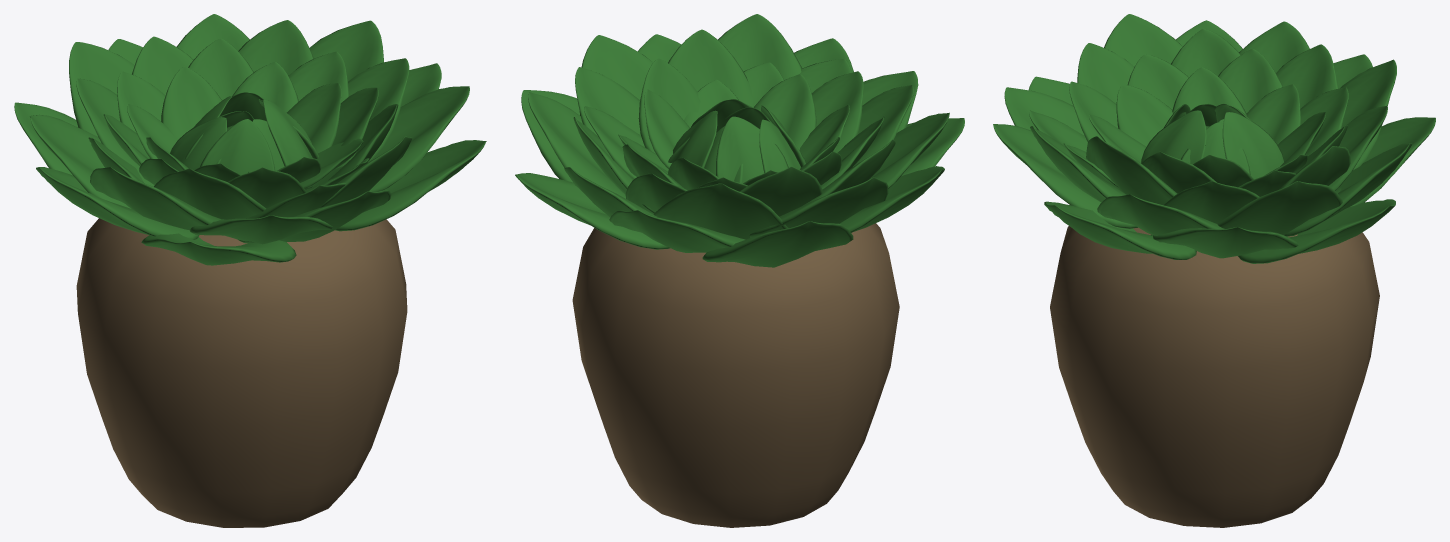
File: small_plant 1.fbx
3 renders of one model, left to right at view 1: azimuth 30°, elevation 25°; view 2: azimuth 150°, elevation 25°; view 3: azimuth 270°, elevation 25°, orthographic. The views are drawn at different scales.
Visible parts, largest first — view 1: sketchfab_render:polySurface233; view 2: sketchfab_render:polySurface233; view 3: sketchfab_render:polySurface233.
Part boxes in pixels (<box>): sketchfab_render:polySurface233: <box>14,14,486,527</box>; sketchfab_render:polySurface233: <box>515,14,964,527</box>; sketchfab_render:polySurface233: <box>993,14,1435,527</box>.
Bounding box in the file's own units: 178 × 165 × 167.
